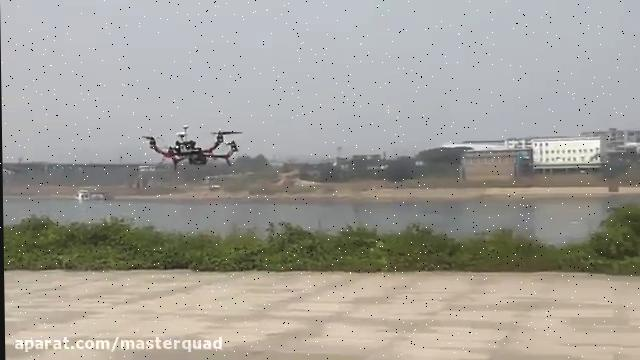drone: (138, 122, 246, 172)
